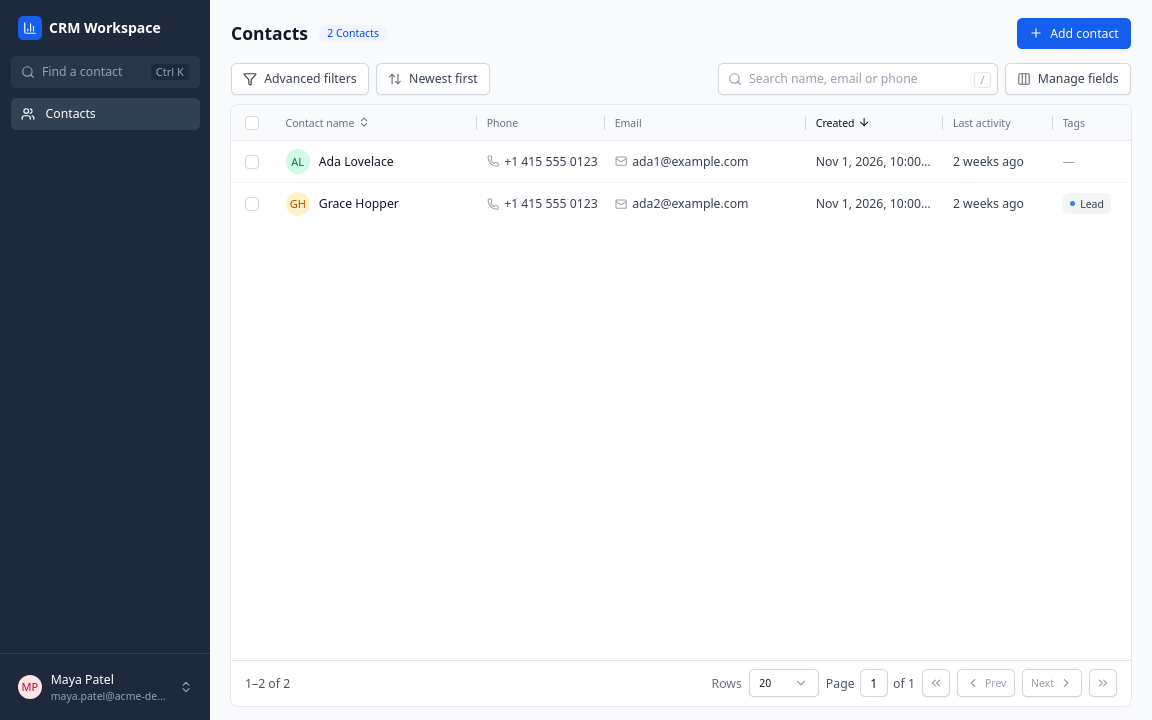
Test: ContactsPage › moves through rows with the arrow keys and selects with Space
Expected: the table is shown, [231,105,1131,224]
Click the search field named "search contacts" at [858, 79], box [718,63,998,94]
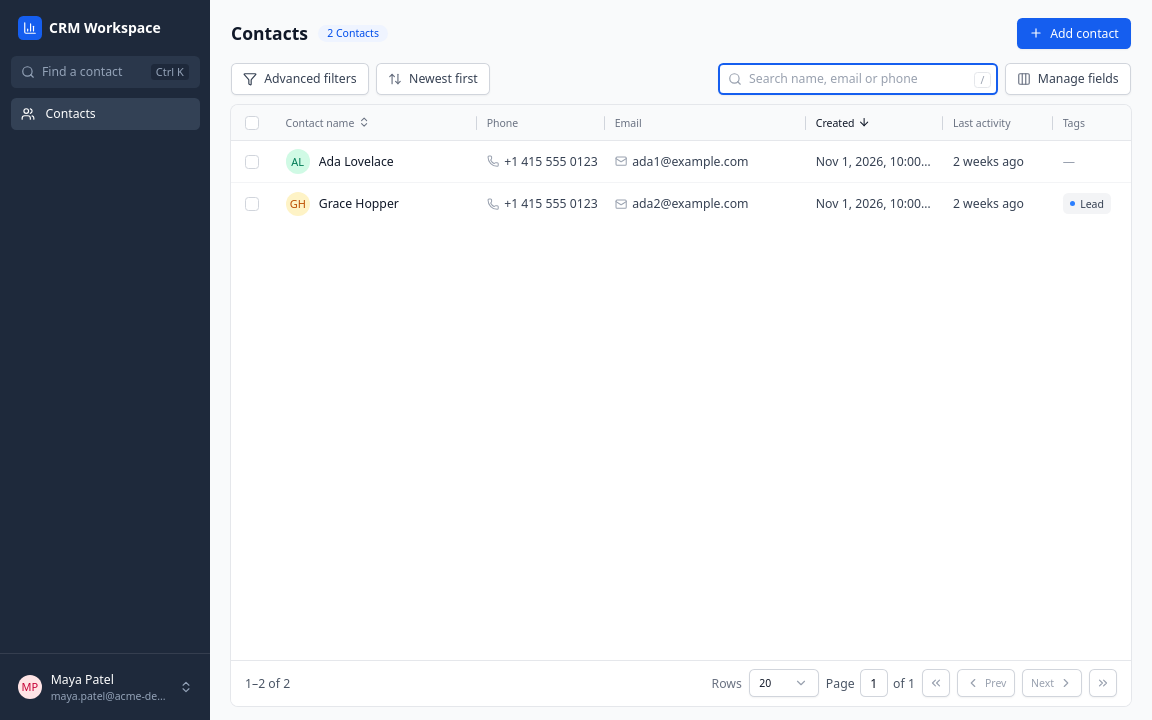
Press Arrowdown
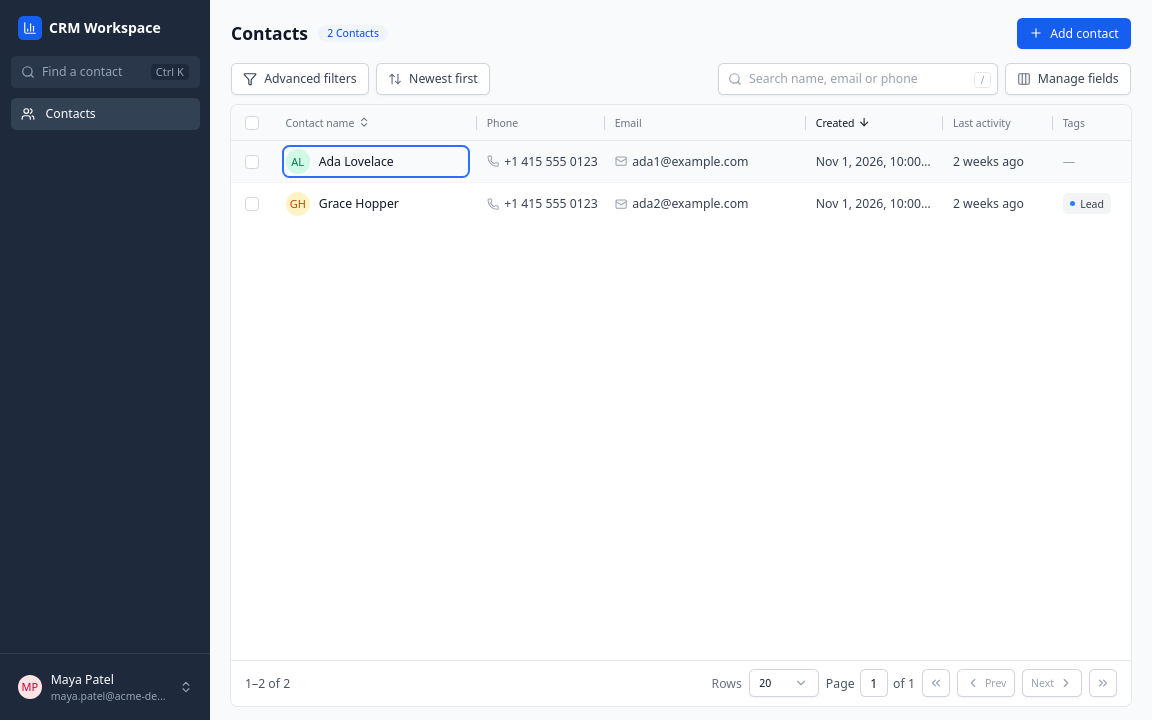
Press Arrowdown
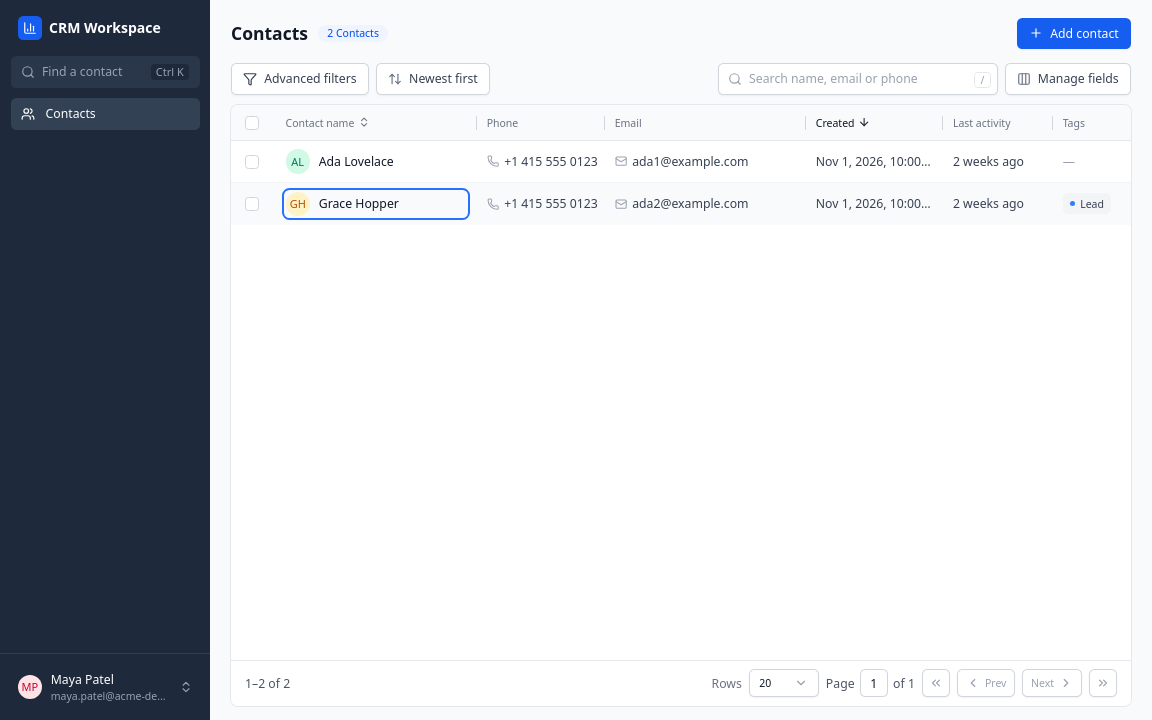
Type keys " "
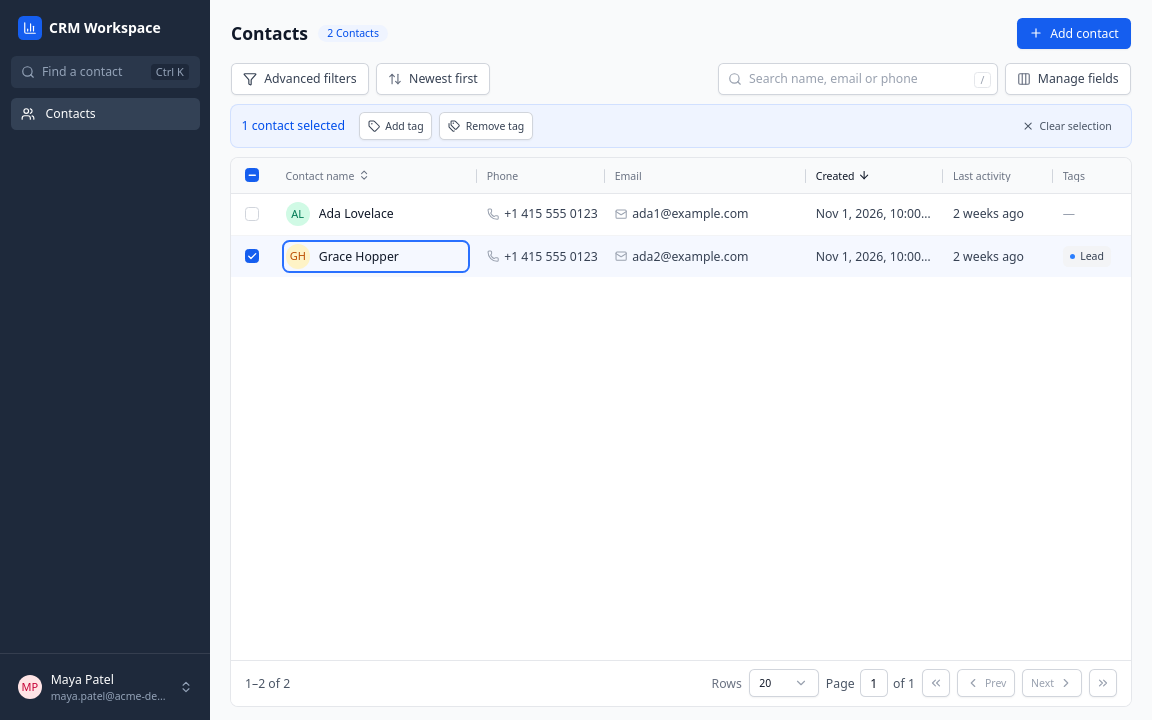
Result: the checkbox named "Select Grace Hopper" is checked at [245,249,259,263]
